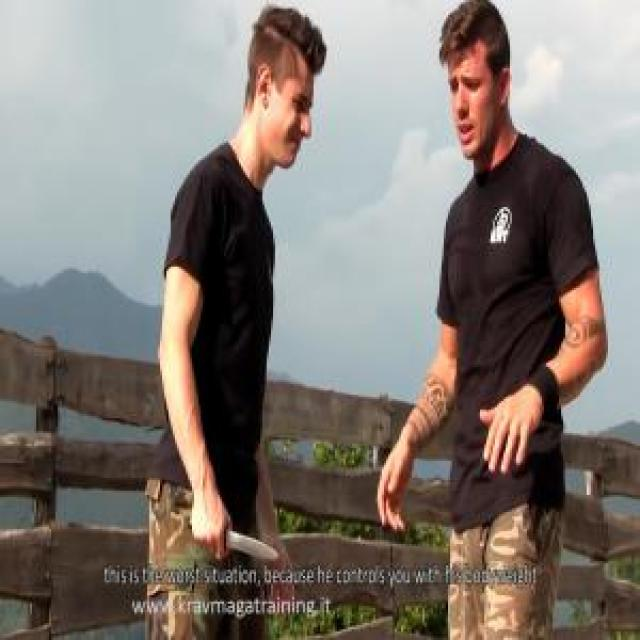knife: (184, 508, 280, 564)
